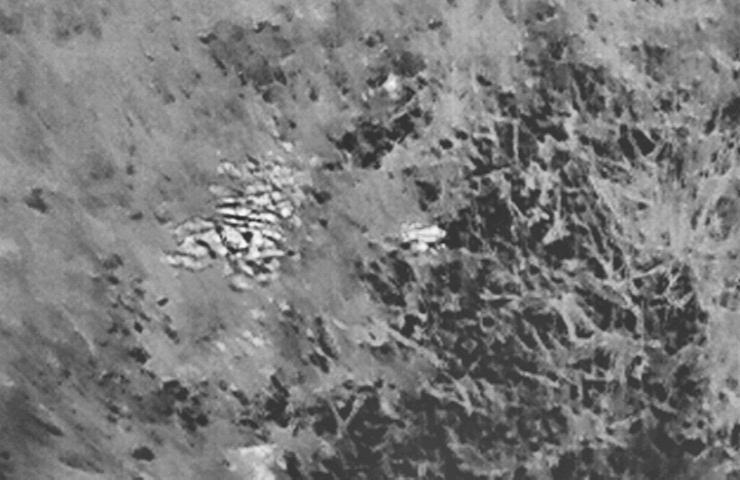landmines: (169, 133, 324, 285)
